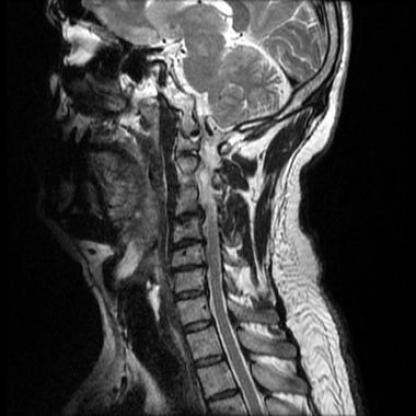Disc Protrusionrotation: (167, 261, 206, 276), (172, 287, 208, 303), (169, 235, 204, 251), (172, 210, 201, 226)
Osteophytesrotation: (167, 261, 206, 276), (172, 287, 208, 303), (169, 235, 204, 251), (172, 210, 201, 226)
